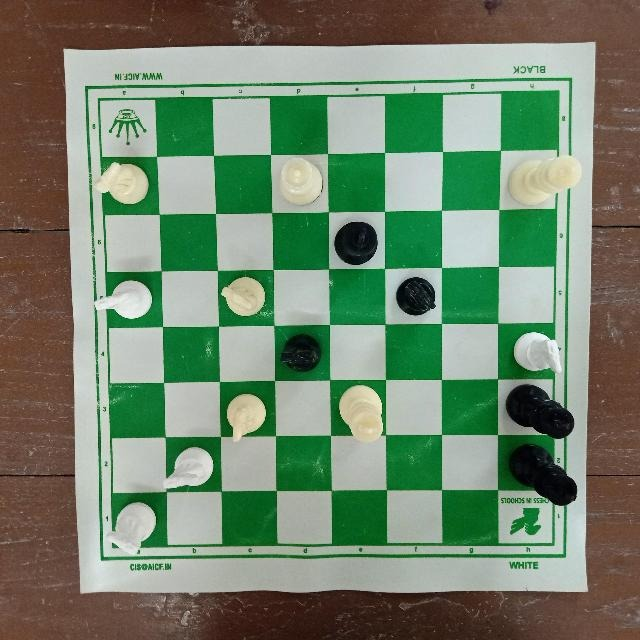black-king: (502, 440, 580, 509), (503, 383, 579, 440), (332, 219, 379, 269)
black-knight: (392, 273, 439, 319), (279, 333, 327, 377)
white-king: (504, 153, 584, 209), (337, 384, 387, 442)
white-knight: (93, 274, 157, 323), (107, 500, 161, 554), (94, 158, 152, 208), (161, 449, 219, 494), (220, 391, 269, 443), (218, 271, 272, 318), (511, 330, 566, 375)
white-queen: (271, 148, 326, 210)
